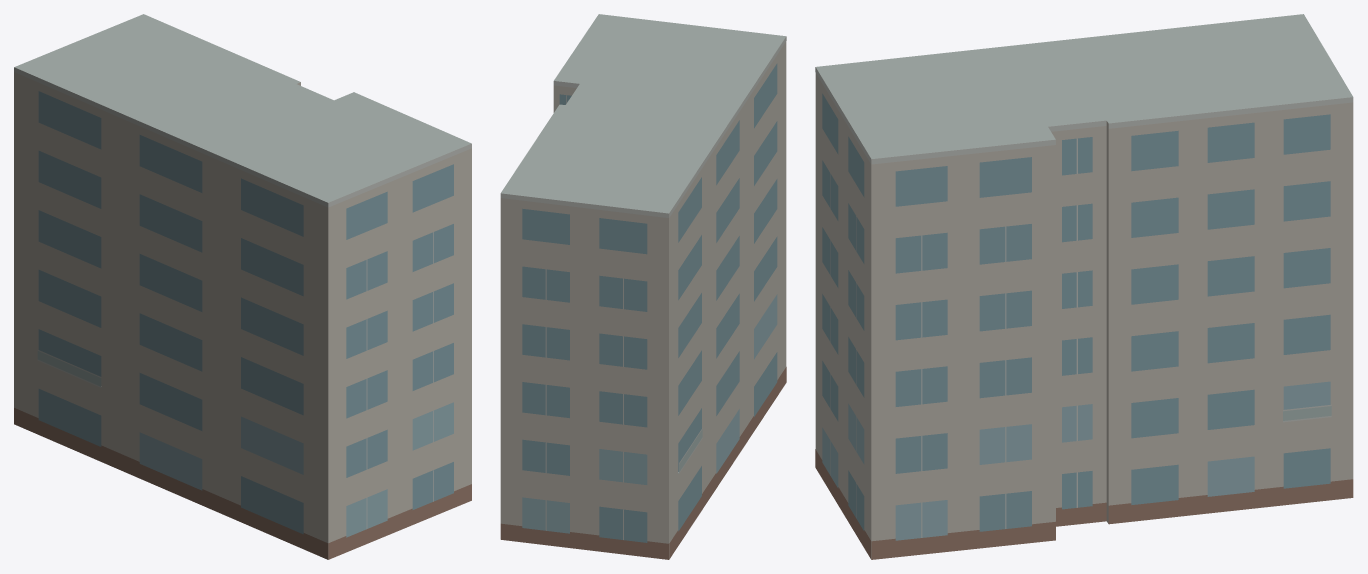
Rendered from survey-upis-32664709.glb.
3 views of the same model, side by side, from view 1: azimuth 30°, elevation 25°; view 2: azimuth 150°, elevation 25°; view 3: azimuth 270°, elevation 25° (orthographic). The views are drawn at different scales.
Parts seen in each view (by area): view 1: survey-upis-32664709.tmp; view 2: survey-upis-32664709.tmp; view 3: survey-upis-32664709.tmp.
Part boxes in pixels (x1=…): survey-upis-32664709.tmp: x1=14, y1=14, x2=471, y2=559; survey-upis-32664709.tmp: x1=500, y1=14, x2=786, y2=559; survey-upis-32664709.tmp: x1=815, y1=14, x2=1353, y2=559.
Size of the model in its own units: 14.23 by 18.3 by 22.27.
